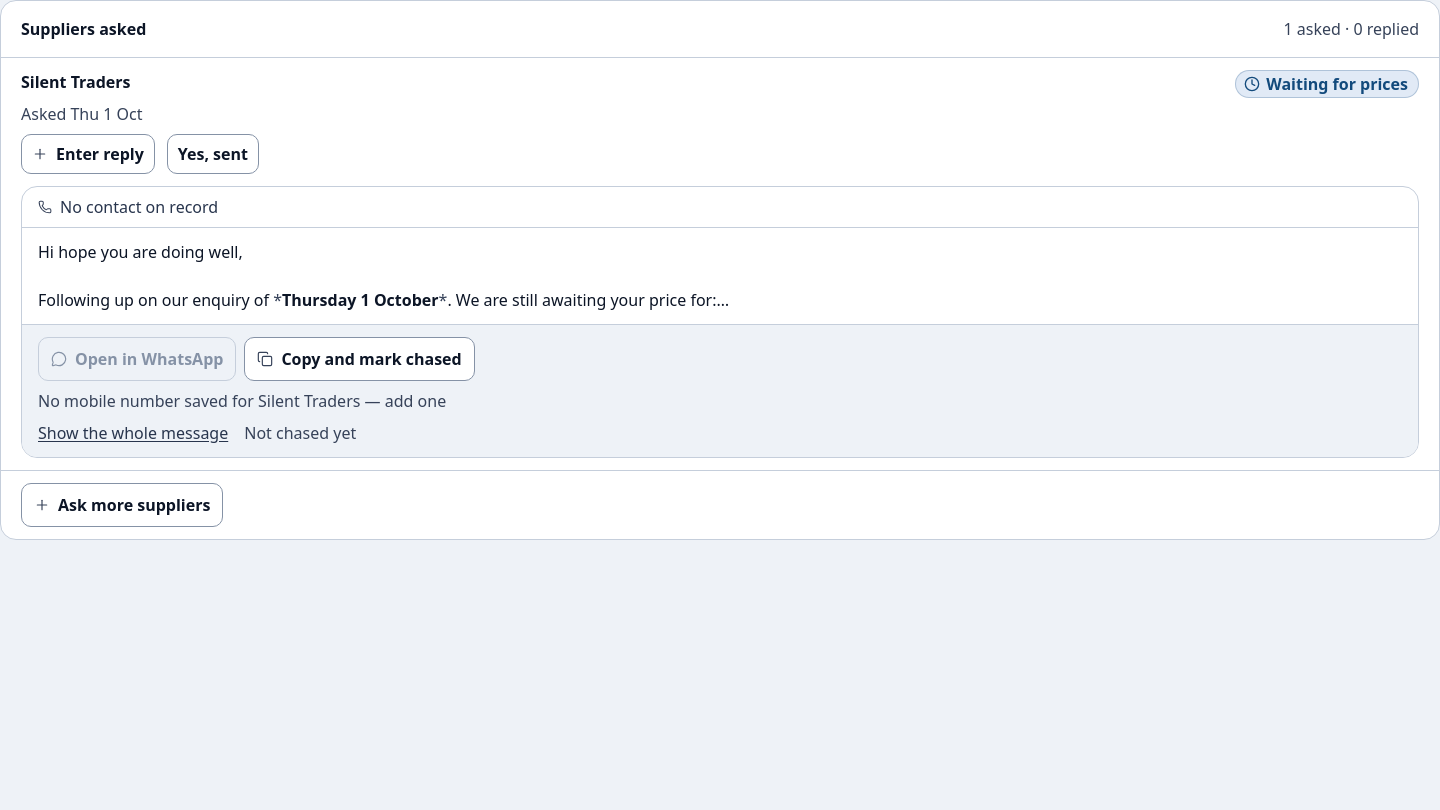
Test: SuppliersAsked: each supplier once, with its reply (grade-B R2, R3, R4) › Enter reply opens the price form for that supplier only when tapped
Click the button with aria-label "Enter reply, Silent Traders": [88, 154] box 21,134 -> 155,174
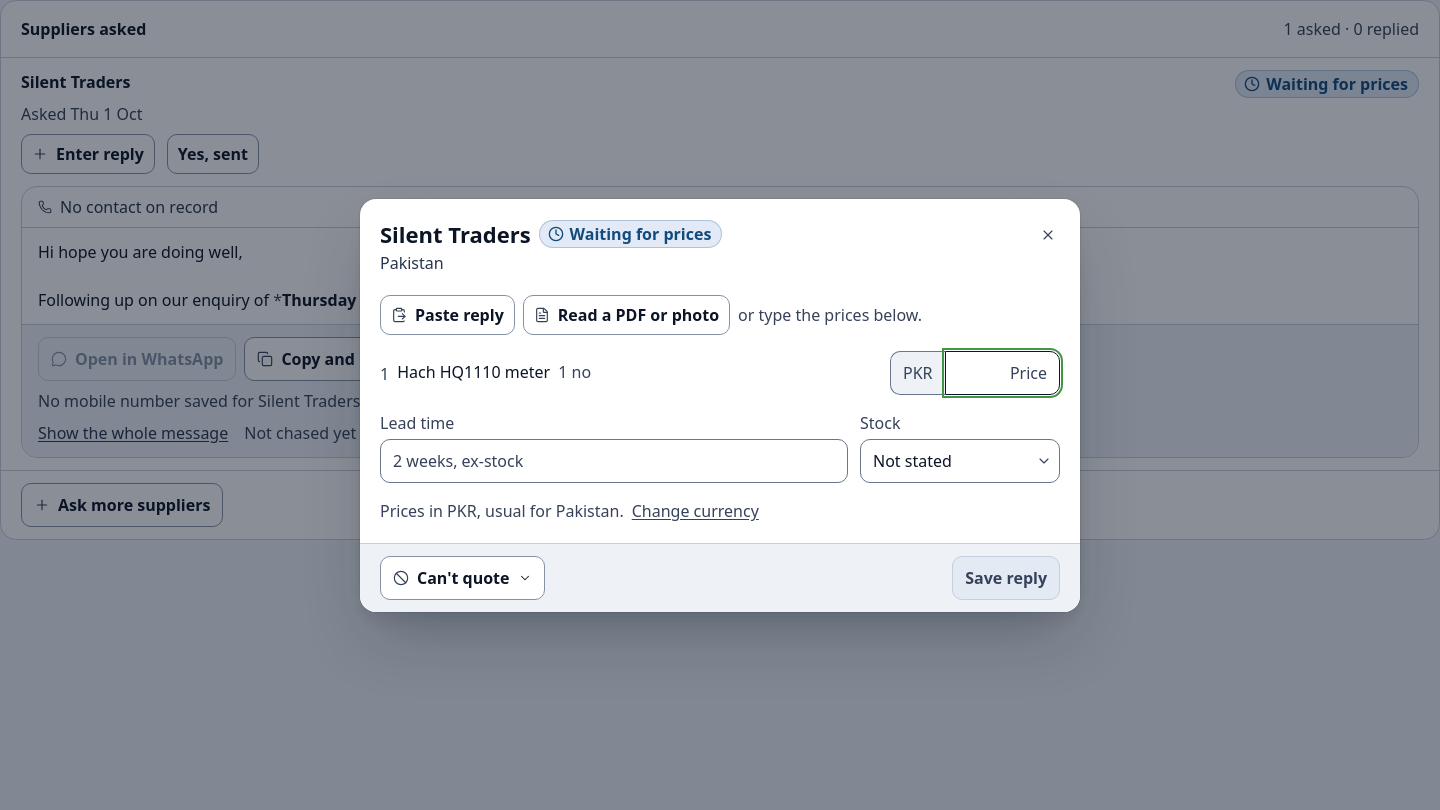
Result: the field named "Price for item 1 from Silent Traders" is shown at 944,350 -> 1060,394
